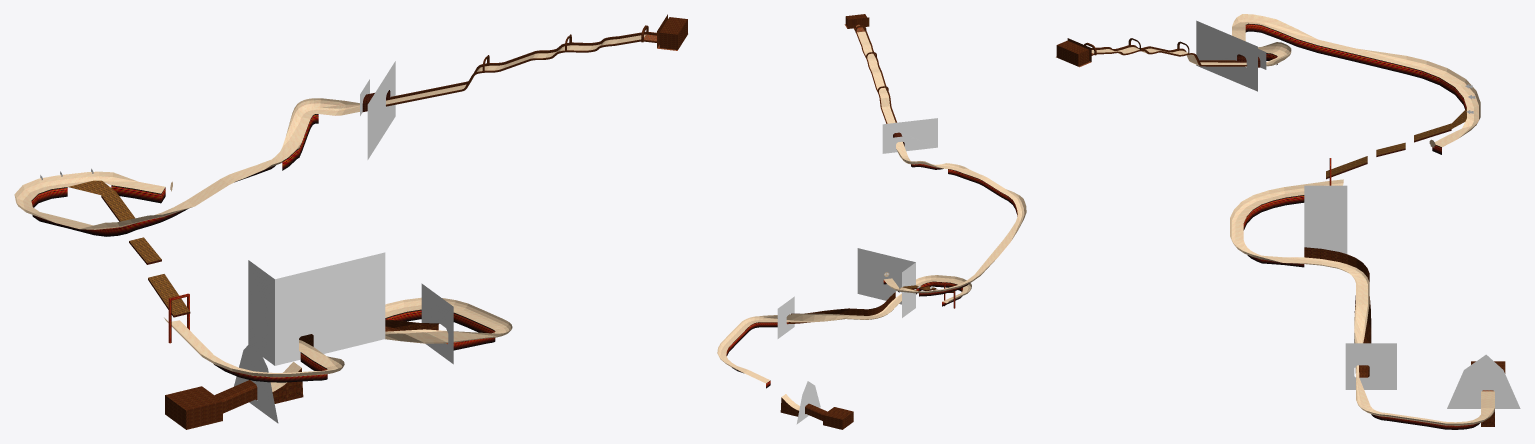
Rendered from high_slider_all.obj.
3 renders of one model, left to right at view 1: azimuth 30°, elevation 25°; view 2: azimuth 150°, elevation 25°; view 3: azimuth 270°, elevation 25°, orthographic. The views are drawn at different scales.
Visible parts, largest first — view 1: r0; view 2: r0; view 3: r0.
Part boxes in pixels (x1=…): r0: x1=14, y1=14, x2=687, y2=429; r0: x1=717, y1=14, x2=1026, y2=429; r0: x1=1056, y1=14, x2=1520, y2=429.
Size of the model in its own units: 25.52 by 27.49 by 27.12.
7 materials, 6 textured.
